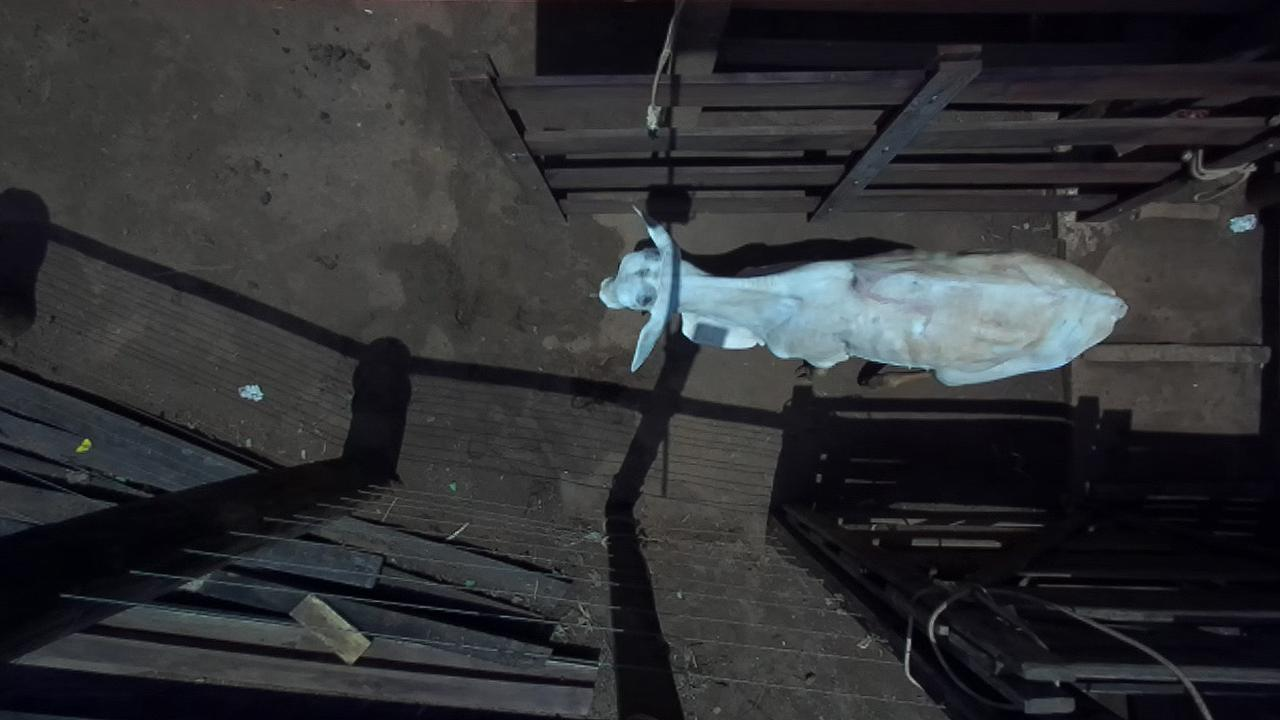cattle: (596, 203, 1129, 388)
